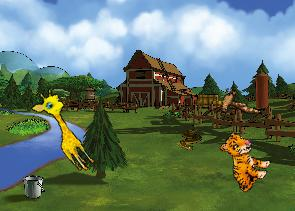eagle: (207, 80, 262, 127)
giraffe: (27, 85, 105, 175)
tiger: (207, 128, 277, 196)
